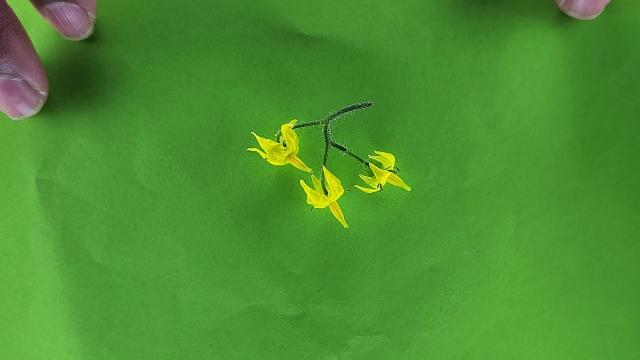Anthesis: (246, 119, 311, 174), (299, 163, 350, 228), (353, 151, 412, 194)
